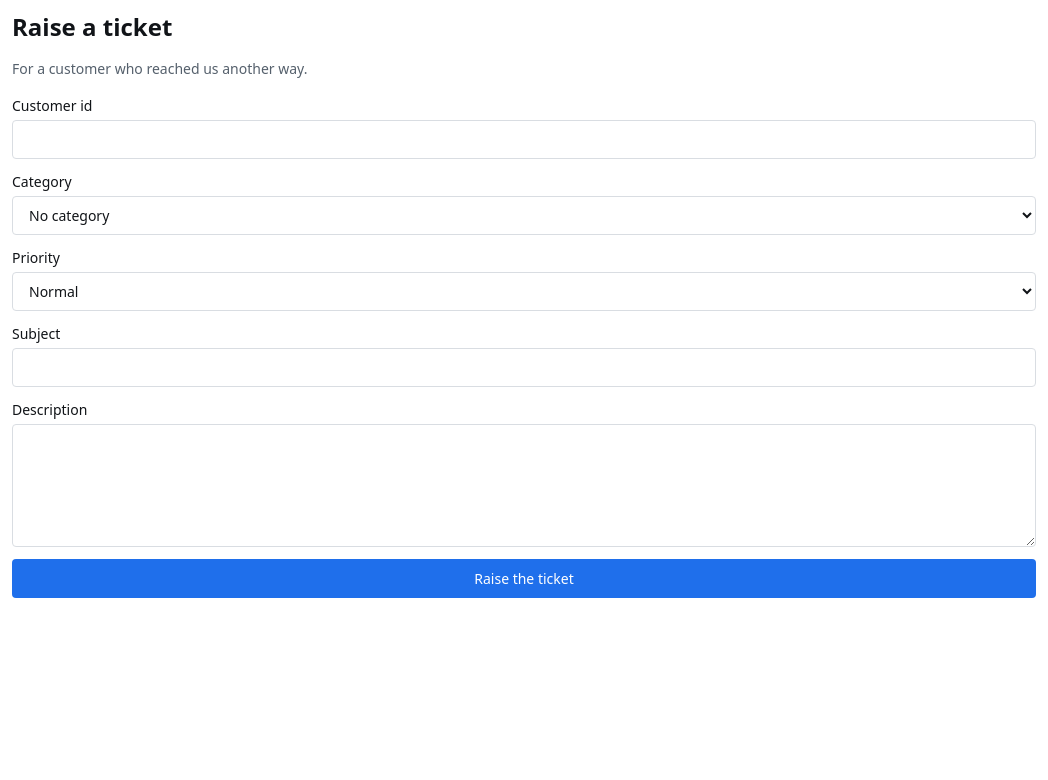
Scenario: the field the API names is the field the screen marks
Type "customer-1" into the field labelled "Customer id".
click(524, 140); type("customer-1")  # box [12, 120, 1036, 159]
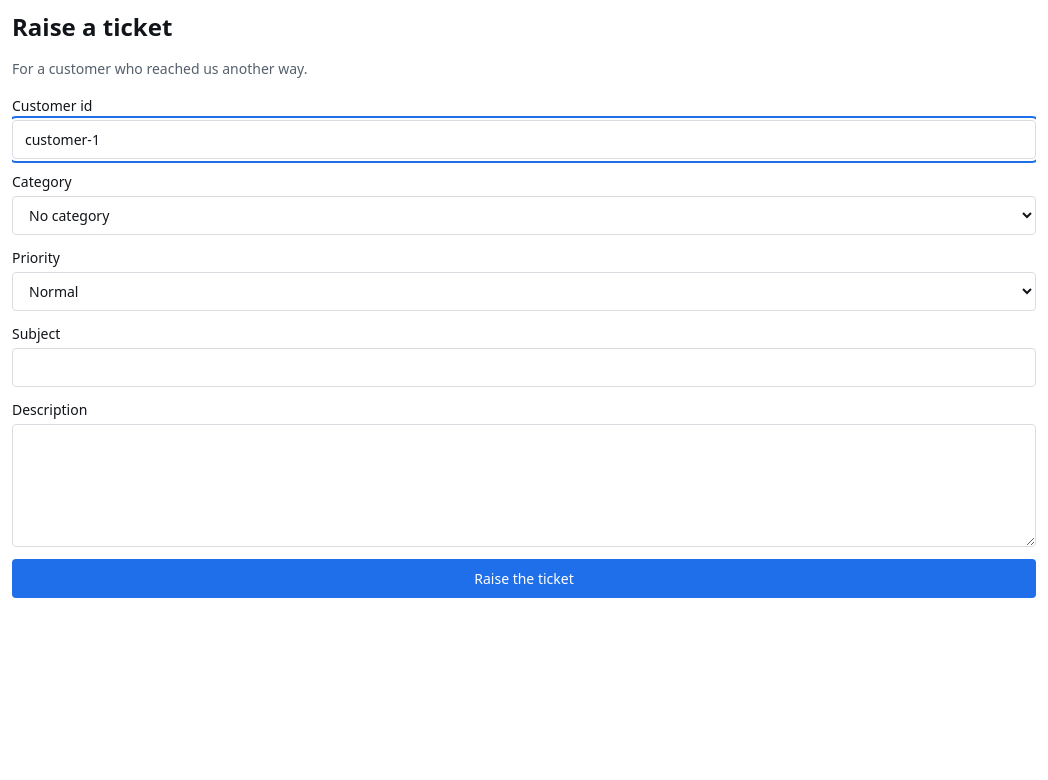
Type "The invoice is wrong" into the field labelled "Subject".
click(524, 368); type("The invoice is wrong")  # box [12, 348, 1036, 387]
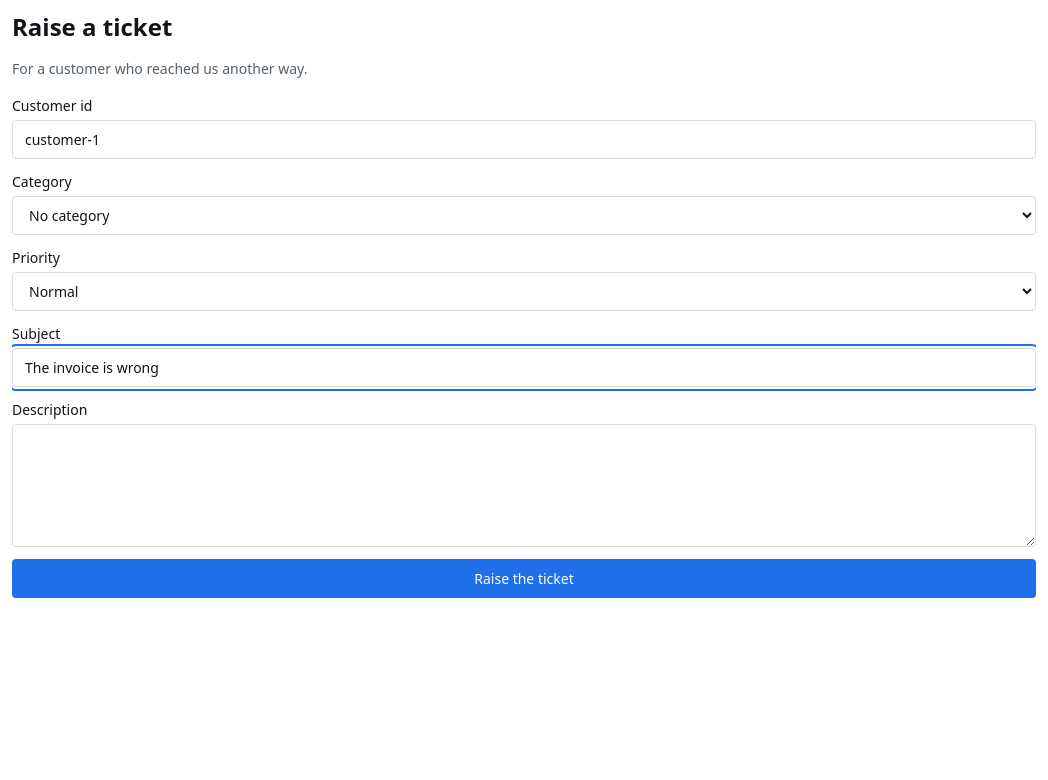
Type "It says 400." into the text box labelled "Description".
click(524, 486); type("It says 400.")  # box [12, 424, 1036, 547]
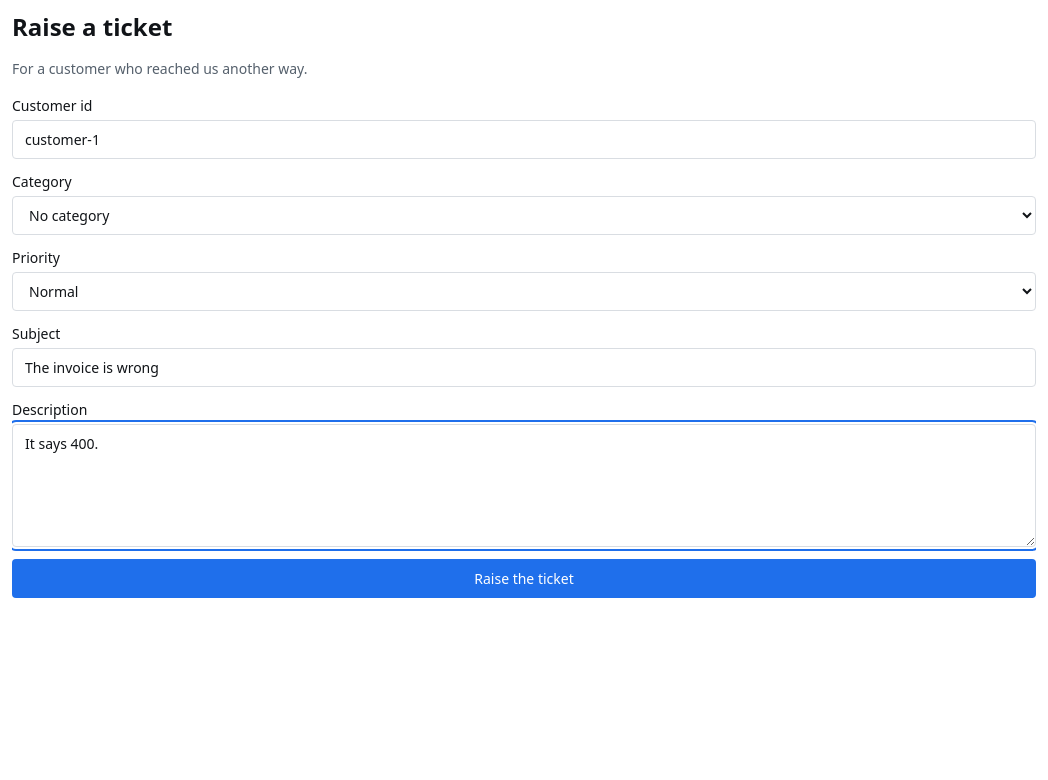
Click the button "Raise the ticket".
click(524, 578)  # box [12, 559, 1036, 598]
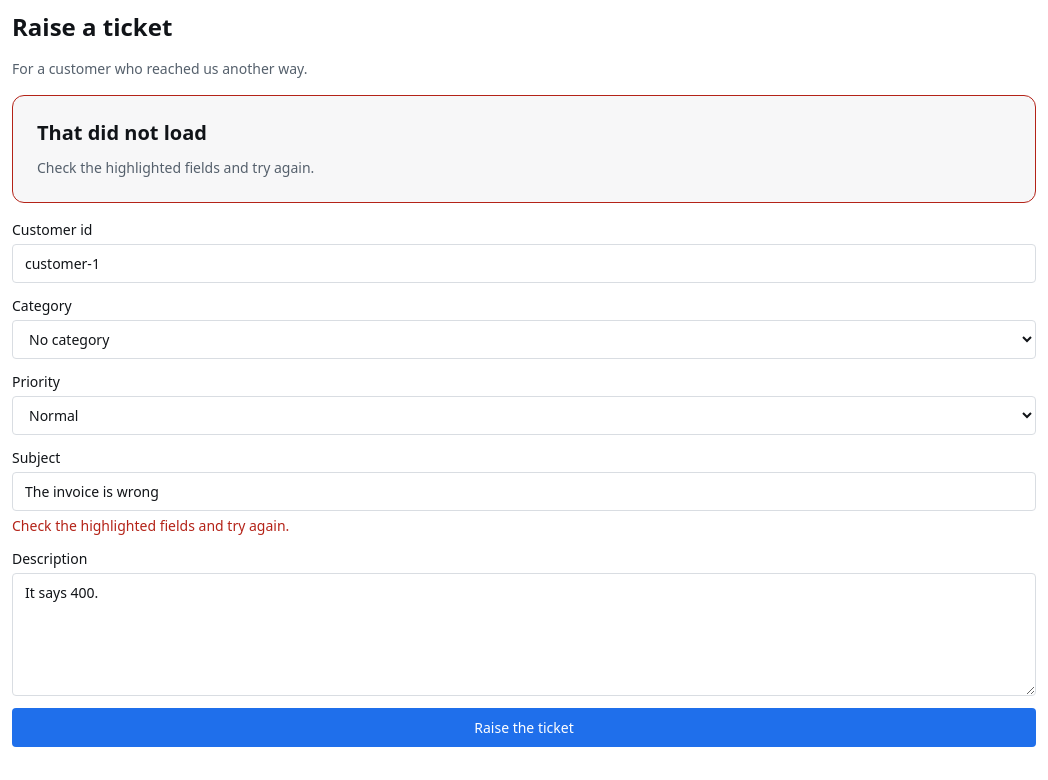
Check: the text "Check the highlighted fields and try again." is shown, box [37, 158, 314, 177]
